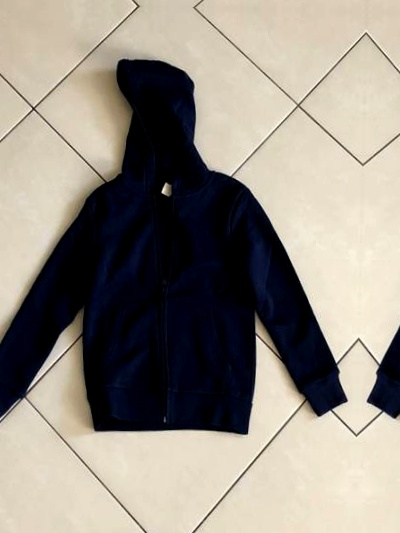Hoodie: (0, 45, 334, 452), (389, 54, 400, 462)
